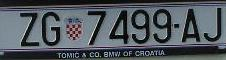-: (173, 23, 180, 29)
4: (108, 9, 131, 46)
7: (87, 9, 108, 47)
9: (131, 8, 151, 45), (152, 8, 171, 44)
A: (180, 8, 200, 44)
G: (40, 12, 61, 47)
J: (202, 6, 223, 42)
Z: (20, 12, 40, 46)
